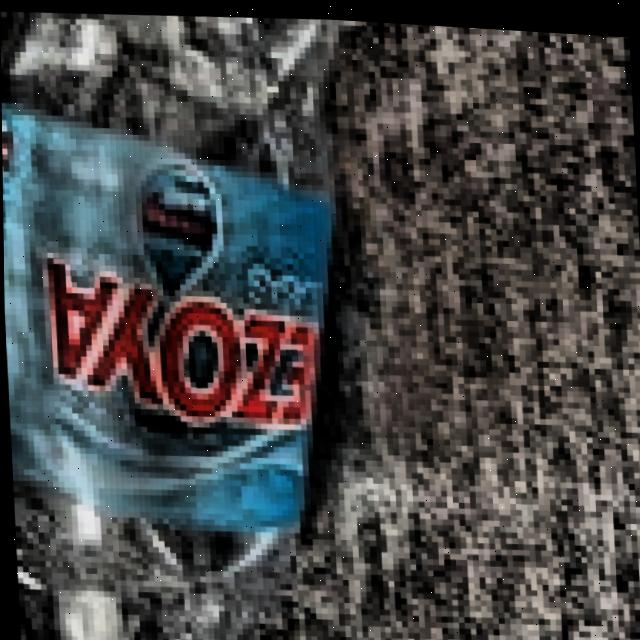plastic: (0, 0, 361, 640)
